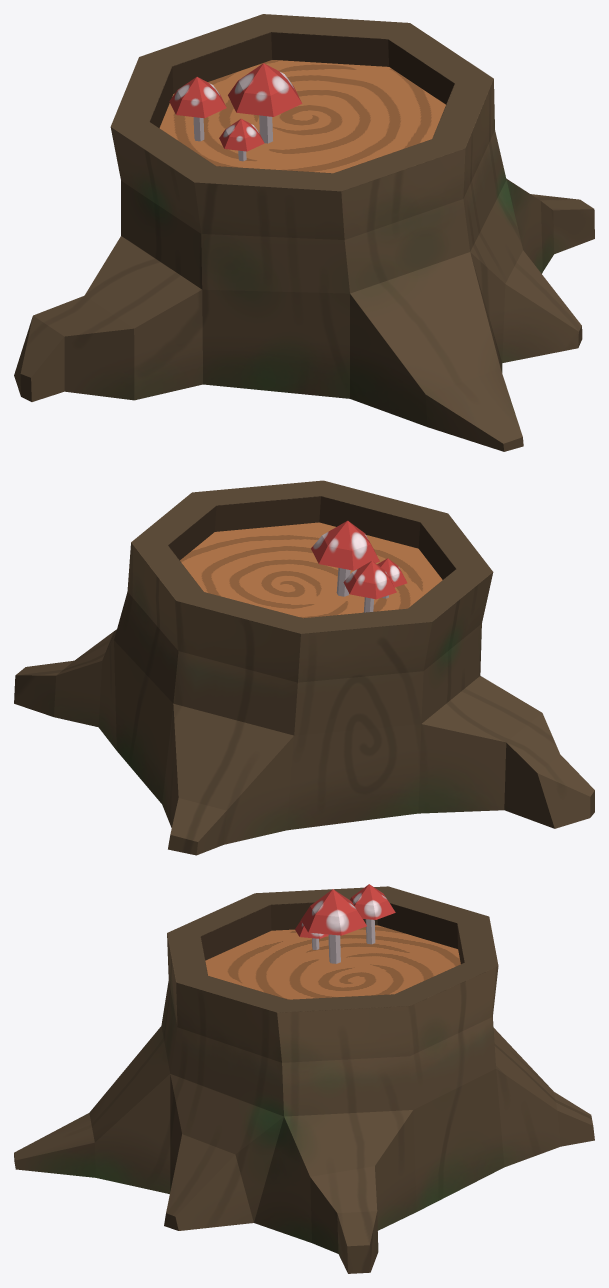
Rendered from Tronco.glb.
3 renders of one model, top to bottom at view 1: azimuth 30°, elevation 25°; view 2: azimuth 150°, elevation 25°; view 3: azimuth 270°, elevation 25°, orthographic. The views are drawn at different scales.
Parts seen in each view (by area): view 1: Tronco; view 2: Tronco; view 3: Tronco.
Part boxes in pixels (<box>): Tronco: <box>14,14,594,451</box>; Tronco: <box>14,480,594,855</box>; Tronco: <box>14,884,594,1273</box>.
Size of the model in its own units: 57.95 by 25.59 by 55.11.
Materials: 2 (2 with a texture image).
